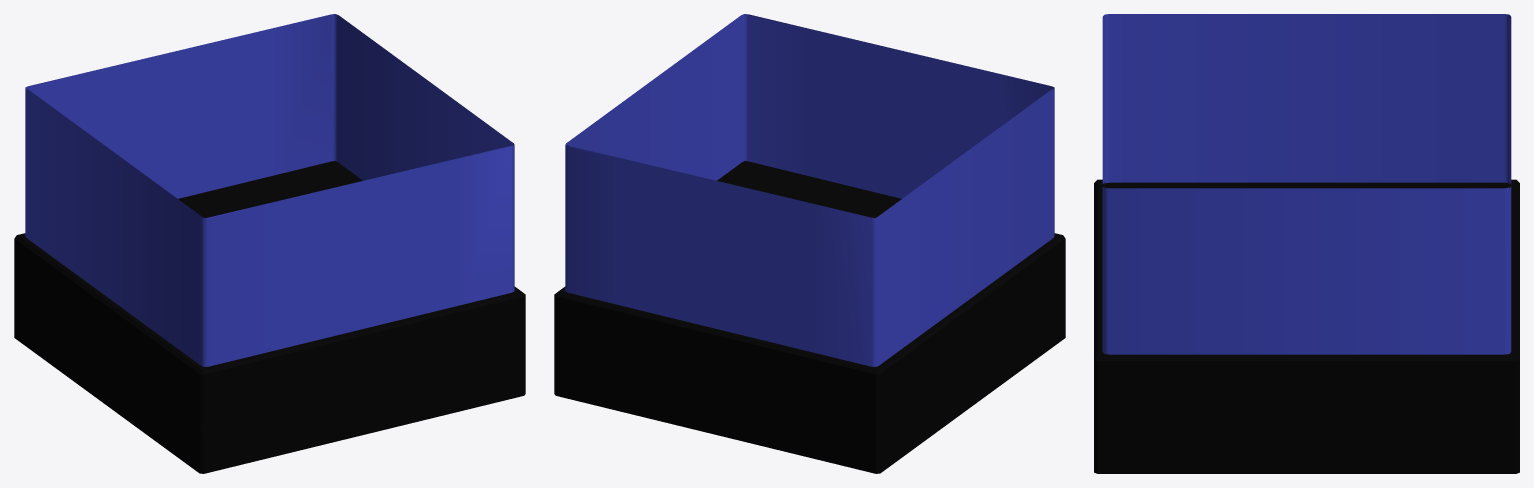
File: bin.dae
3 views of the same model, side by side, from view 1: azimuth 30°, elevation 25°; view 2: azimuth 150°, elevation 25°; view 3: azimuth 270°, elevation 25° (orthographic). The views are drawn at different scales.
Visible parts, largest first — view 1: Bin; view 2: Bin; view 3: Bin.
Boxes of the visible parts, box(x1,y1,x2,y2) form: Bin: box(14, 14, 525, 473); Bin: box(554, 14, 1065, 473); Bin: box(1094, 14, 1519, 473).
Bounding box in the file's own units: 0.6684 × 0.6684 × 0.4914.
1 material, 1 textured.
